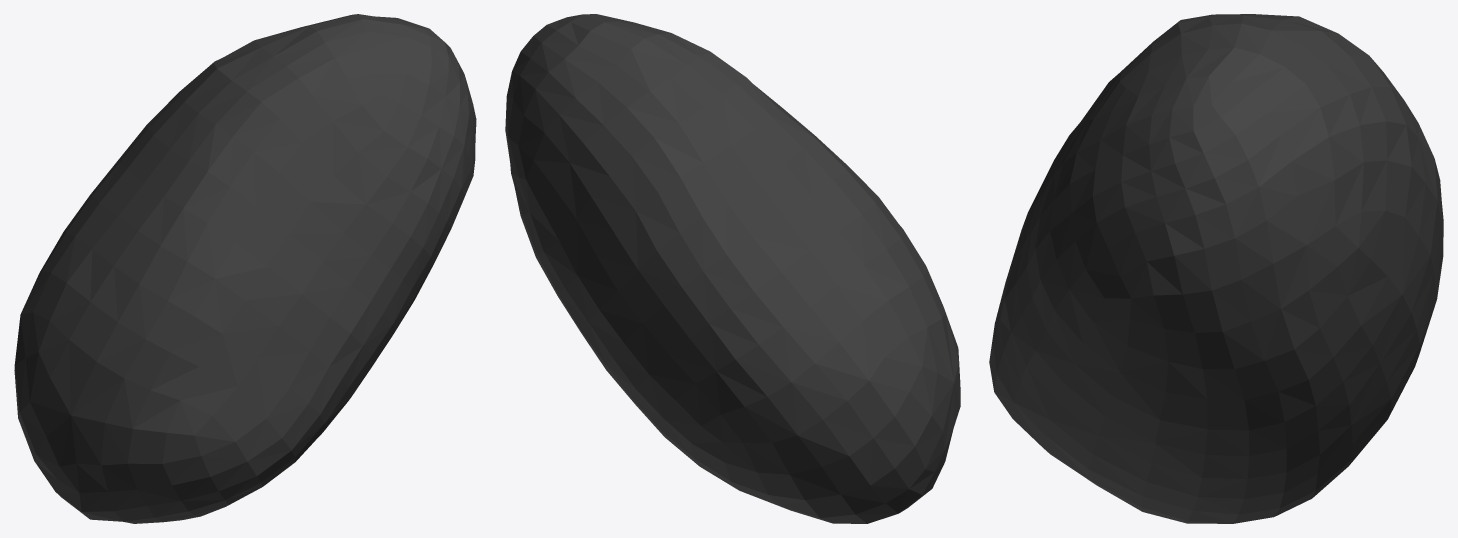
The model's file is dorsal_sesamoid_middle_III_L.glb.
3 renders of one model, left to right at view 1: azimuth 30°, elevation 25°; view 2: azimuth 150°, elevation 25°; view 3: azimuth 270°, elevation 25°, orthographic. The views are drawn at different scales.
Visible parts, largest first — view 1: dorsal_sesamoid_middle_III_L; view 2: dorsal_sesamoid_middle_III_L; view 3: dorsal_sesamoid_middle_III_L.
Part boxes in pixels (x1,y1,x2,y2): dorsal_sesamoid_middle_III_L: (14,14,476,523); dorsal_sesamoid_middle_III_L: (505,14,960,523); dorsal_sesamoid_middle_III_L: (989,14,1443,523).
Size of the model in its own units: 0.00514 by 0.00503 by 0.00349.
Materials: 1 (1 with a texture image).
